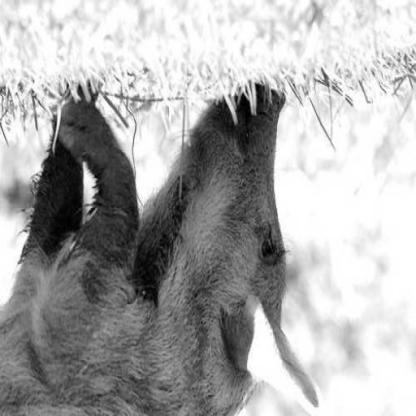boar: (9, 61, 327, 416)
